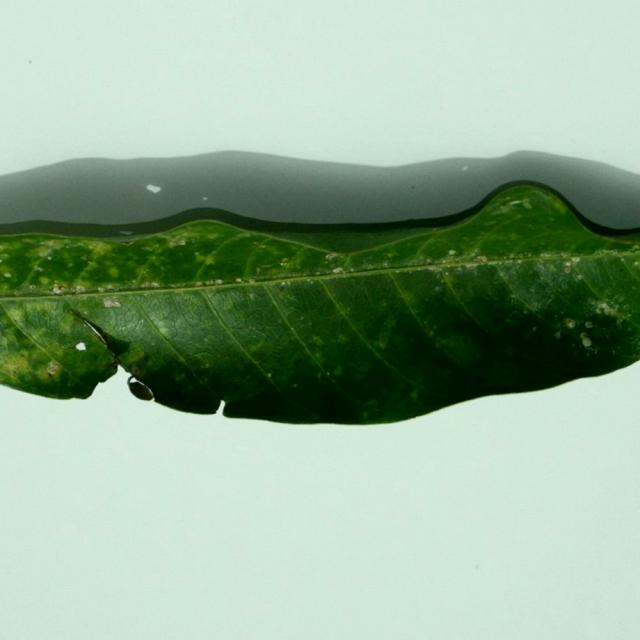Mango: (0, 184, 639, 424)
Powdery_Mildew: (74, 240, 127, 262), (588, 296, 618, 320), (252, 262, 282, 276), (499, 200, 527, 213), (3, 358, 23, 376), (194, 279, 226, 287), (102, 296, 122, 308), (130, 363, 145, 378), (46, 360, 60, 376), (537, 251, 560, 259), (580, 333, 593, 347), (374, 338, 388, 350), (169, 238, 187, 247), (140, 281, 160, 289), (221, 299, 234, 311), (37, 247, 52, 257), (158, 327, 170, 337), (469, 250, 483, 258), (564, 318, 575, 328), (175, 371, 186, 381), (337, 335, 349, 344), (75, 342, 86, 351), (118, 240, 134, 246), (522, 200, 532, 209), (333, 366, 342, 376), (75, 285, 86, 293), (476, 256, 488, 263), (313, 337, 322, 346), (509, 200, 522, 206), (326, 253, 337, 260), (571, 257, 581, 264), (53, 287, 63, 294), (119, 230, 133, 235), (332, 267, 343, 273), (142, 246, 153, 252), (564, 265, 572, 273), (584, 321, 593, 328), (158, 321, 167, 328), (13, 289, 22, 296), (279, 283, 286, 291), (281, 258, 288, 265), (249, 293, 256, 300), (215, 279, 223, 285), (434, 286, 442, 292), (426, 258, 435, 263), (565, 261, 572, 267), (555, 332, 561, 339), (382, 261, 389, 267), (448, 250, 456, 255), (4, 273, 12, 278), (35, 266, 43, 271), (531, 326, 537, 332), (194, 252, 200, 258), (235, 278, 242, 283), (248, 278, 255, 283), (98, 287, 105, 292), (29, 284, 36, 289), (280, 282, 286, 287), (196, 281, 202, 286), (349, 267, 355, 272), (256, 268, 261, 274), (475, 563, 480, 569), (267, 373, 272, 378), (326, 371, 331, 376), (293, 383, 298, 388), (637, 261, 640, 267), (300, 316, 304, 320)
